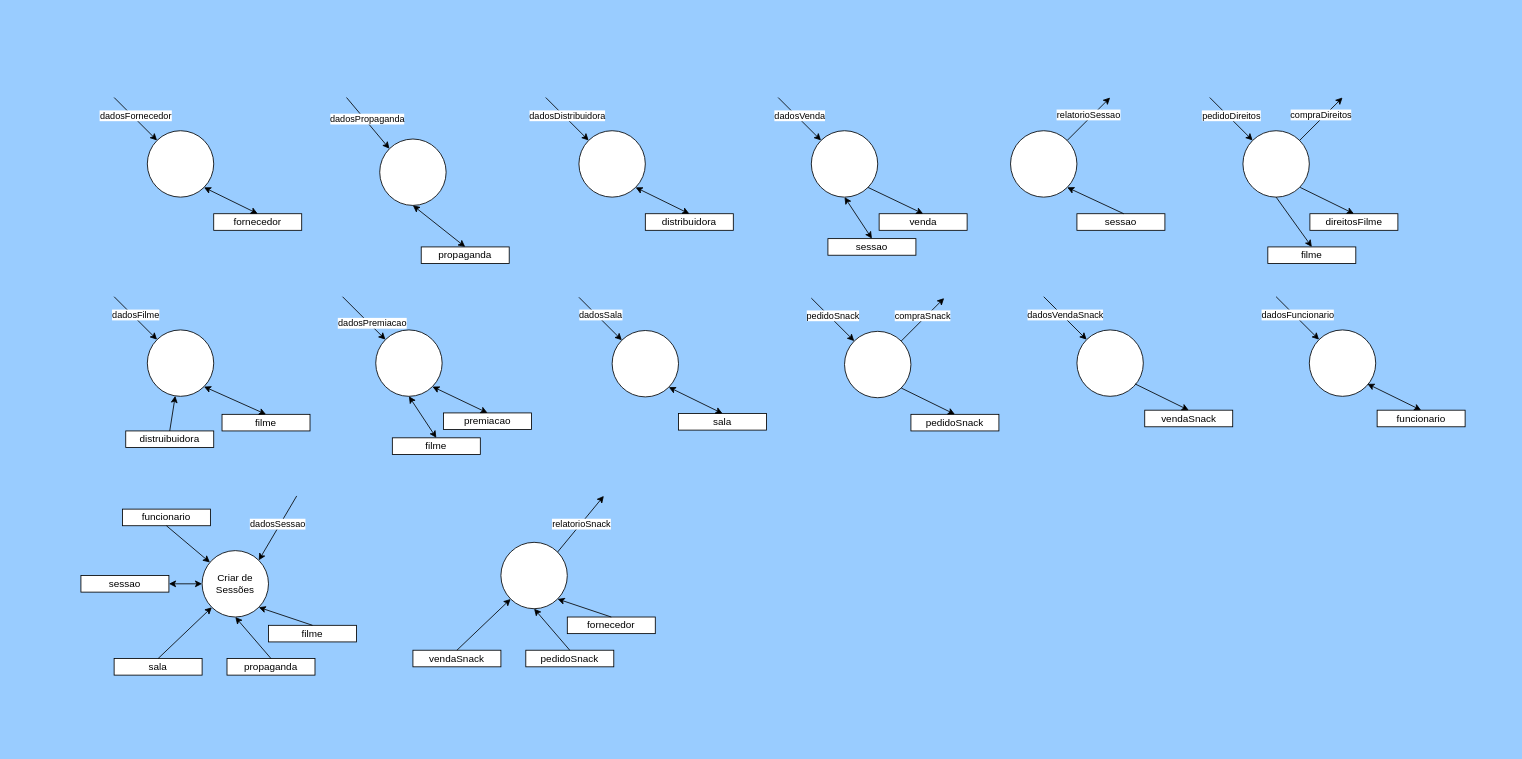
Image size: 1522x759. Some labels were removed from this diagram. Here are the shapes that lost their labels. From the top down, the centre of each, then its label:
(x=180, y=163): Cadastrar Fornecedor
(x=412, y=171): Cadastrar Propagandas
(x=611, y=163): Cadastrar Distribuidora
(x=844, y=163): Efetuar Venda de Ingressos
(x=1043, y=163): Gerar Relatório das Sessões
(x=1275, y=163): Compra Direito de Filme
(x=180, y=362): Cadastrar Filme
(x=408, y=362): Registro de Premiaçõe
(x=645, y=363): Cadastrar Salas
(x=877, y=364): Compra Snacks
(x=1109, y=362): Vende Snack
(x=1342, y=362): Cadastrar Funcionários
(x=533, y=575): Gerar Relatório de Estoque se Snacks
